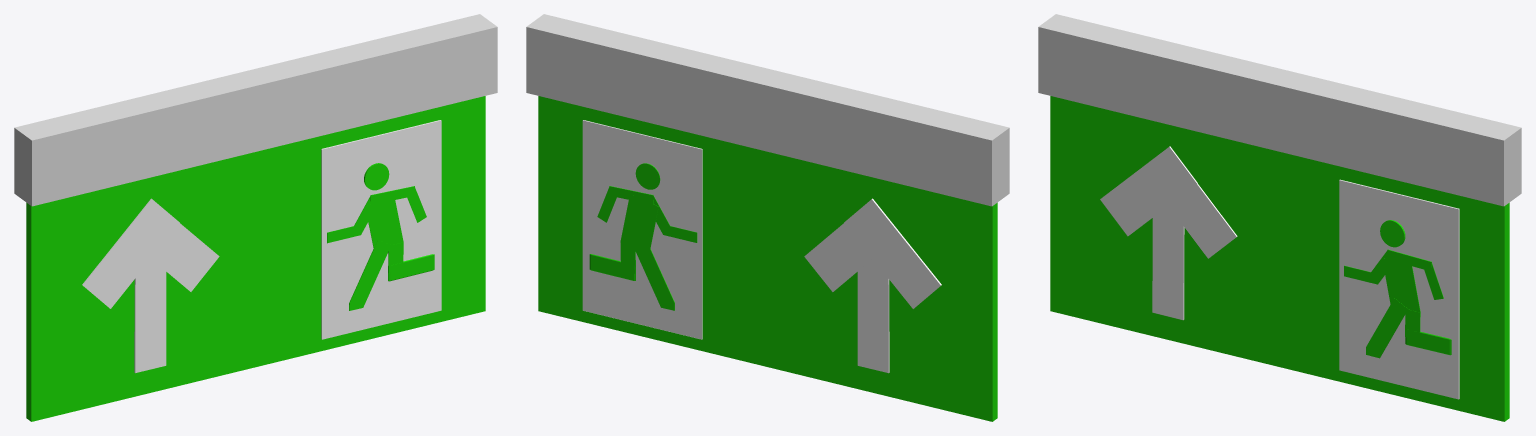
File: NødudgangOp.fbx
3 views of the same model, side by side, from view 1: azimuth 30°, elevation 25°; view 2: azimuth 150°, elevation 25°; view 3: azimuth 330°, elevation 25° (orthographic).
Parts seen in each view (by area): view 1: Cube, Cube.001, Cube.002, Cube.007, Cube.003, Cube.006, Cube.008, Cube.011, Cube.010, Cylinder, Cube.012; view 2: Cube, Cube.001, Cube.002, Cube.007, Cube.006, Cube.003, Cube.008, Cube.011, Cube.010, Cylinder; view 3: Cube, Cube.001, Cube.002, Cube.007, Cube.003, Cube.006, Cube.008, Cube.011, Cube.010, Cylinder, Cube.012.
Part boxes in pixels (<box>): Cube: <box>26,96,485,421</box>; Cube.001: <box>14,14,497,206</box>; Cube.002: <box>321,120,441,339</box>; Cube.007: <box>82,198,179,308</box>; Cube.003: <box>134,259,166,373</box>; Cube.006: <box>151,223,219,291</box>; Cube.008: <box>365,200,403,248</box>; Cube.011: <box>349,240,391,306</box>; Cube.010: <box>388,254,434,281</box>; Cylinder: <box>364,163,389,190</box>; Cube.012: <box>370,186,414,204</box>; Cube: <box>538,96,997,421</box>; Cube.001: <box>526,14,1009,206</box>; Cube.002: <box>582,120,702,339</box>; Cube.007: <box>844,198,941,308</box>; Cube.006: <box>804,200,899,291</box>; Cube.003: <box>857,259,889,373</box>; Cube.008: <box>620,194,658,254</box>; Cube.011: <box>635,249,674,306</box>; Cube.010: <box>589,254,635,280</box>; Cylinder: <box>635,163,660,189</box>; Cube: <box>1050,96,1509,421</box>; Cube.001: <box>1038,14,1521,206</box>; Cube.002: <box>1339,179,1459,399</box>; Cube.007: <box>1100,146,1197,236</box>; Cube.003: <box>1152,206,1184,320</box>; Cube.006: <box>1150,148,1237,258</box>; Cube.008: <box>1382,258,1420,312</box>; Cube.011: <box>1366,298,1407,357</box>; Cube.010: <box>1405,329,1451,355</box>; Cylinder: <box>1380,220,1405,247</box>; Cube.012: <box>1387,249,1431,271</box>.
Bounding box in the file's own units: 177 × 104 × 11.62.
